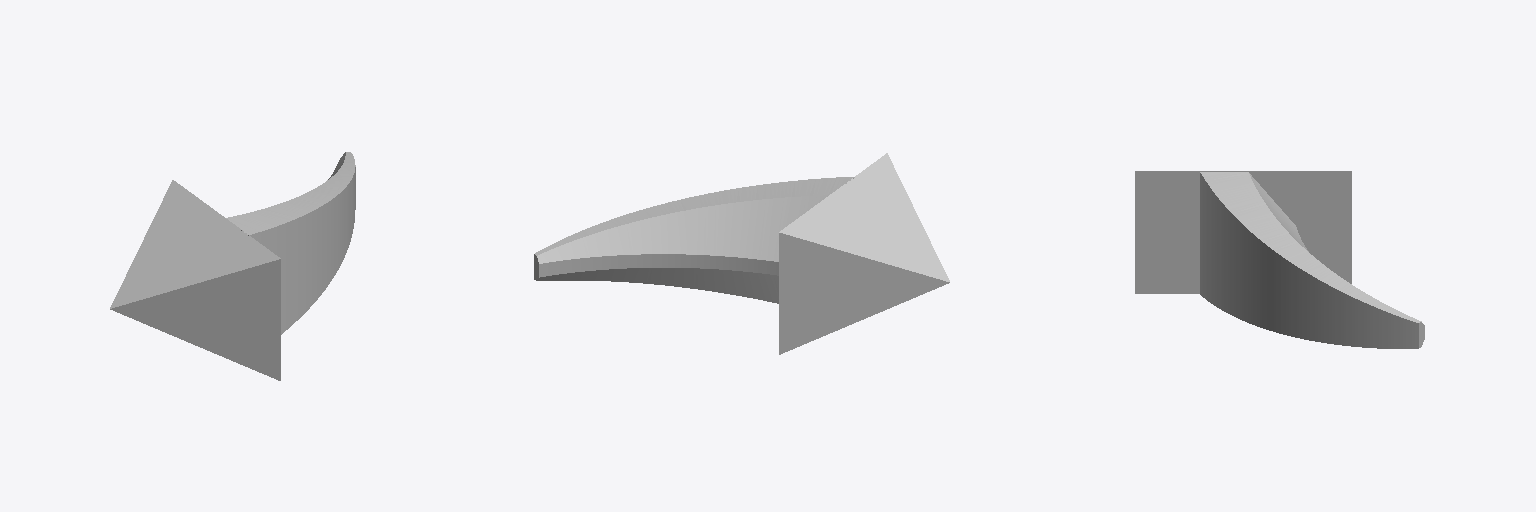
The model's file is main.obj.
3 renders of one model, left to right at view 1: azimuth 30°, elevation 25°; view 2: azimuth 150°, elevation 25°; view 3: azimuth 270°, elevation 25°, orthographic.
Parts seen in each view (by area): view 1: obj_0; view 2: obj_0; view 3: obj_0.
Boxes of the visible parts, x1,y1,x2,y2 form: obj_0: [110, 152, 355, 380]; obj_0: [534, 153, 949, 354]; obj_0: [1135, 171, 1424, 348].
Size of the model in its own units: 42 by 15.04 by 32.